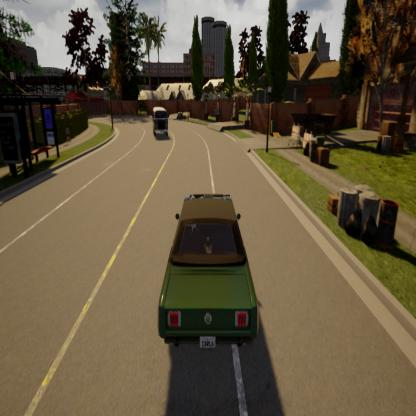Cars: (147, 187, 267, 365), (148, 98, 170, 145)
Pedestrian: (63, 125, 74, 146)
